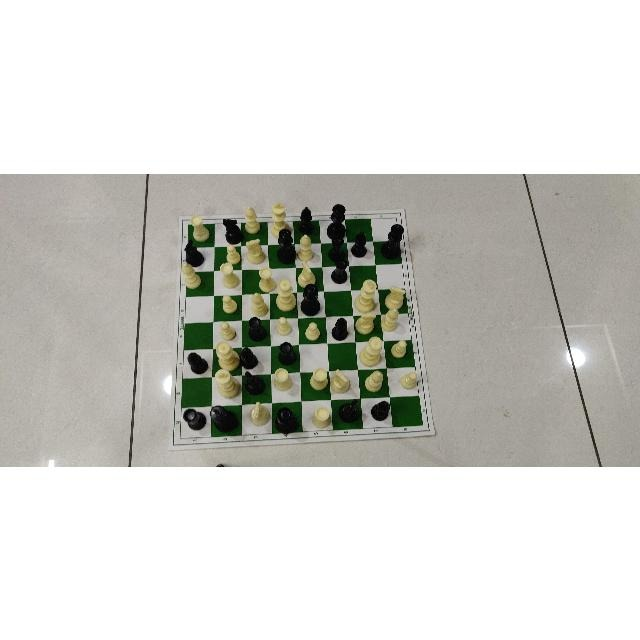black-bishop: (186, 350, 210, 374), (239, 344, 259, 370), (299, 205, 315, 235), (352, 230, 368, 258), (370, 400, 390, 421), (331, 317, 349, 340)
black-king: (380, 222, 404, 259), (326, 203, 348, 241), (212, 406, 238, 433)
black-knight: (221, 218, 244, 244), (184, 239, 204, 267), (243, 369, 265, 394), (339, 397, 361, 422)
black-queen: (274, 226, 298, 264), (301, 280, 323, 315), (272, 404, 297, 431)
black-rook: (182, 405, 208, 431), (329, 258, 351, 284), (247, 314, 269, 339), (276, 342, 299, 365)
white-bishop: (180, 261, 201, 290), (243, 204, 261, 237), (248, 290, 270, 317), (379, 305, 401, 331), (296, 233, 314, 263), (364, 367, 385, 392)
white-king: (354, 278, 379, 314), (270, 202, 293, 238), (215, 370, 241, 398)
white-knight: (243, 237, 268, 263), (352, 309, 377, 335), (383, 285, 407, 312), (328, 367, 352, 394), (248, 401, 272, 426), (296, 260, 318, 285)
white-pawn: (218, 321, 241, 343), (273, 314, 295, 334), (224, 243, 243, 265), (389, 340, 409, 360), (399, 370, 419, 390), (219, 295, 239, 312), (304, 320, 320, 339)
white-queen: (214, 341, 240, 371), (359, 335, 383, 365), (276, 278, 296, 312)
white-rook: (189, 214, 209, 243), (221, 261, 241, 288), (309, 405, 332, 428), (254, 267, 277, 290), (308, 366, 328, 391), (272, 367, 291, 391)
